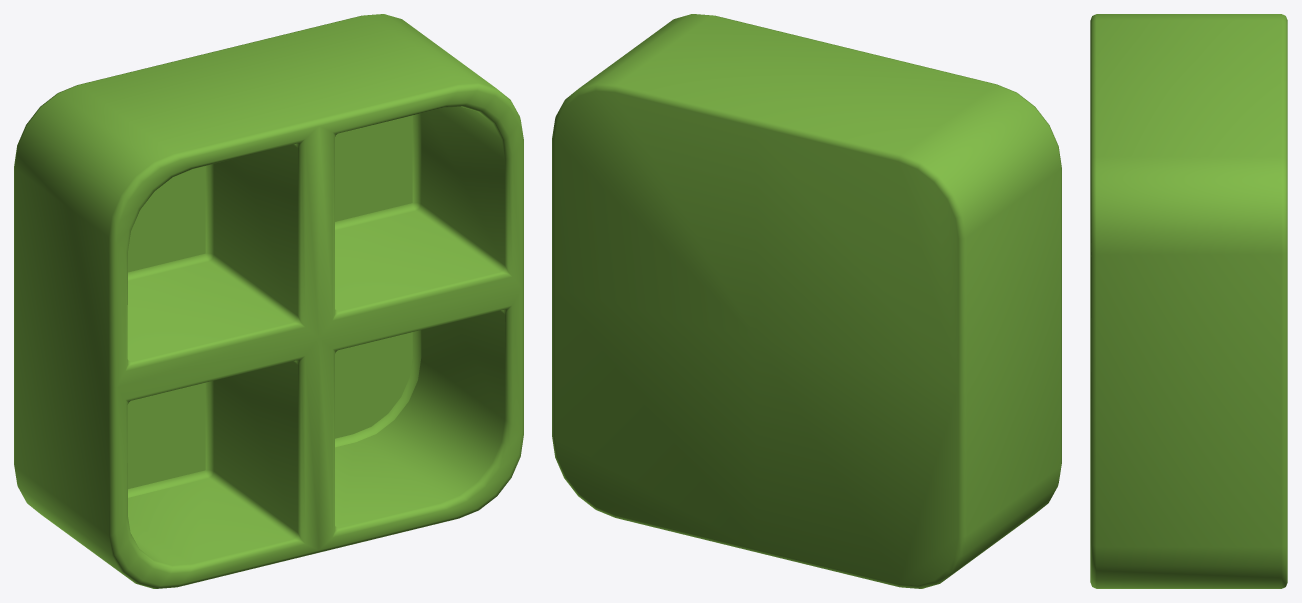
Rendered from Kitchen Shelf Rack .fbx.
3 views of the same model, side by side, from view 1: azimuth 30°, elevation 25°; view 2: azimuth 150°, elevation 25°; view 3: azimuth 270°, elevation 25° (orthographic).
Visible parts, largest first — view 1: Cube; view 2: Cube; view 3: Cube.
Part boxes in pixels (box(x1,y1,x2,y2)): Cube: box(14, 14, 523, 588); Cube: box(552, 14, 1061, 588); Cube: box(1090, 14, 1287, 588).
Bounding box in the file's own units: 155 × 155 × 64.99.
Materials: 1 (1 with a texture image).
